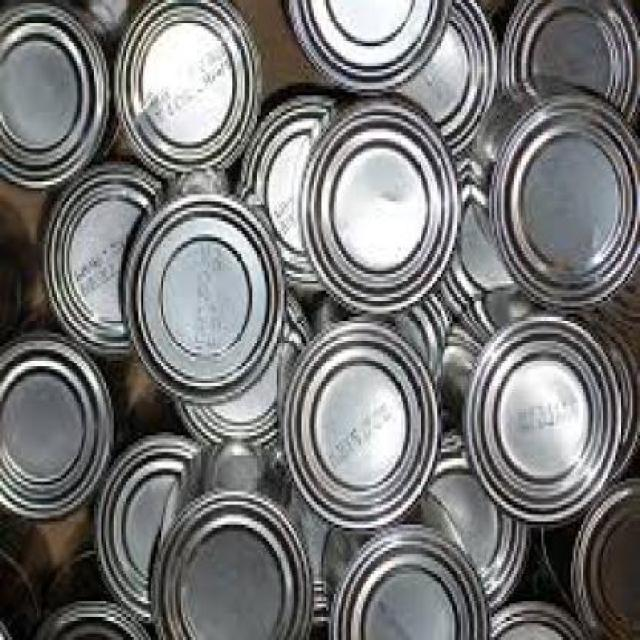METAL: (121, 194, 287, 406), (459, 319, 618, 535), (296, 106, 459, 316), (484, 95, 638, 317), (279, 327, 439, 535), (111, 3, 262, 182), (89, 435, 228, 623), (234, 96, 366, 293), (40, 162, 166, 363), (401, 432, 532, 611), (146, 498, 311, 638), (170, 290, 312, 452), (361, 3, 499, 159), (0, 335, 112, 521), (1, 4, 108, 191), (276, 445, 381, 624), (496, 3, 638, 132), (435, 151, 536, 324), (328, 531, 488, 638), (279, 3, 447, 99), (568, 478, 638, 638), (432, 323, 485, 446), (603, 316, 637, 489), (27, 600, 162, 638), (484, 603, 594, 639)
